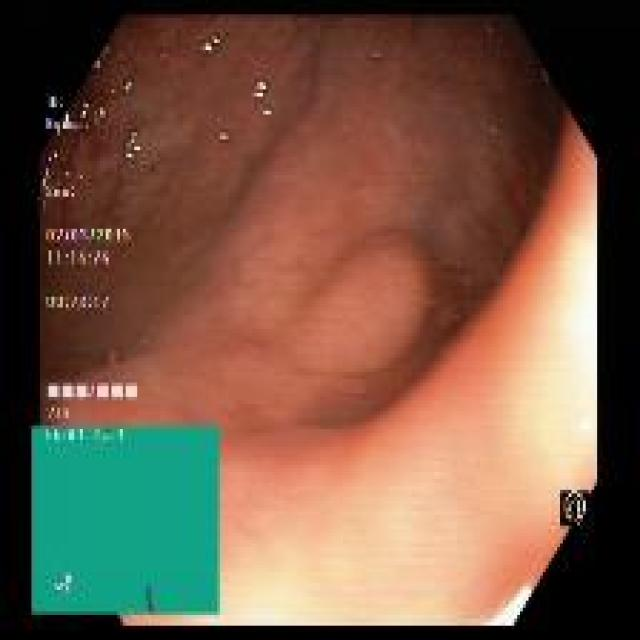Polyps: (292, 233, 426, 374)
